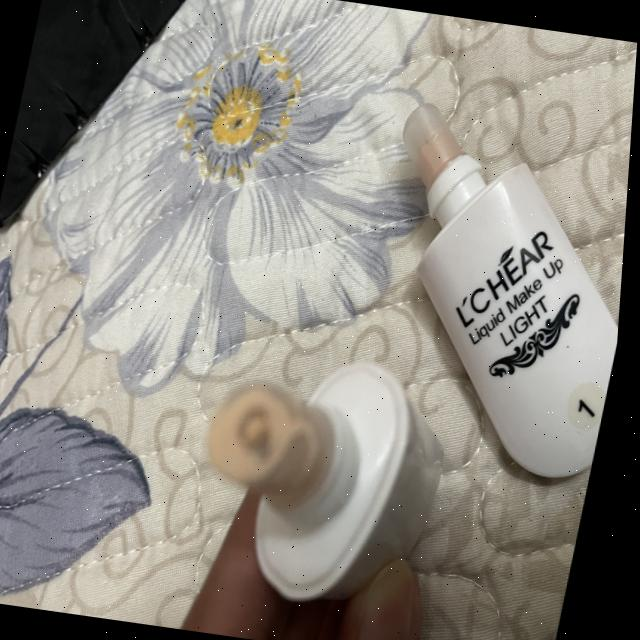concealer: (326, 73, 636, 494), (167, 320, 457, 622)
